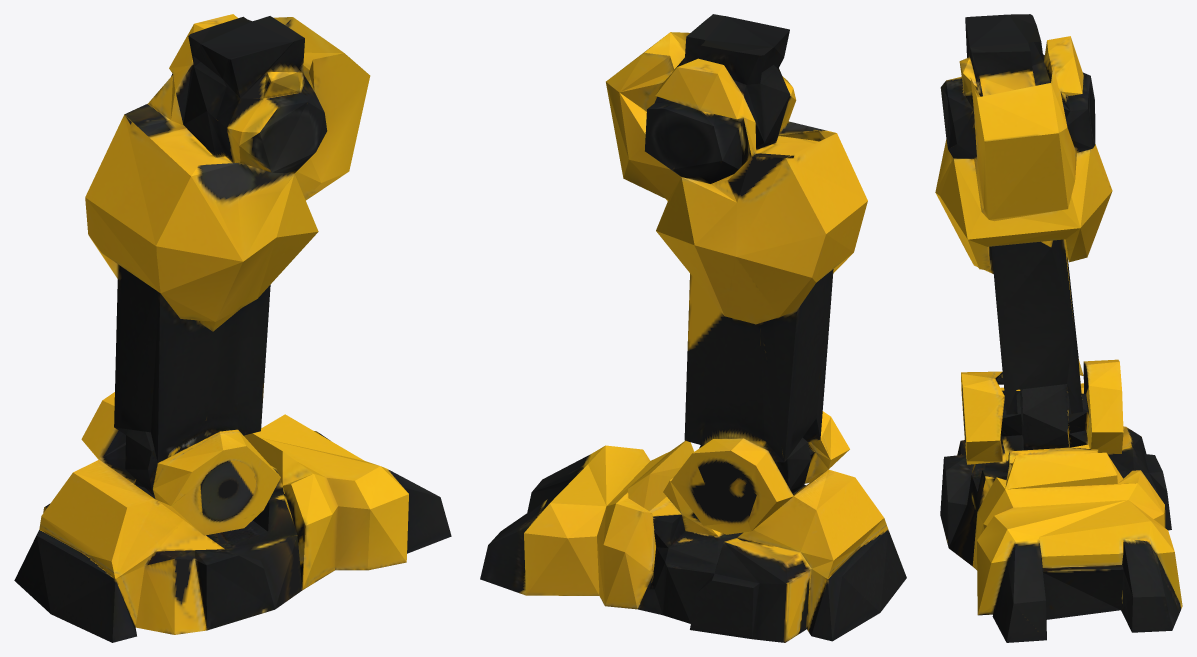
File: SM_ChaserV2Debris_LowerLeg_L.fbx
The picture shows the model from 3 angles, left to right: view 1: azimuth 30°, elevation 25°; view 2: azimuth 150°, elevation 25°; view 3: azimuth 270°, elevation 25°; orthographic projection. The views are drawn at different scales.
Visible parts, largest first — view 1: SM_ChaserV2Debris_LowerLeg_L; view 2: SM_ChaserV2Debris_LowerLeg_L; view 3: SM_ChaserV2Debris_LowerLeg_L.
Boxes of the visible parts, x1=… form: SM_ChaserV2Debris_LowerLeg_L: x1=14, y1=14, x2=451, y2=642; SM_ChaserV2Debris_LowerLeg_L: x1=480, y1=14, x2=906, y2=642; SM_ChaserV2Debris_LowerLeg_L: x1=935, y1=14, x2=1182, y2=642.
Bounding box in the file's own units: 38.38 × 53.2 × 23.15.
Materials: 1 (1 with a texture image).
